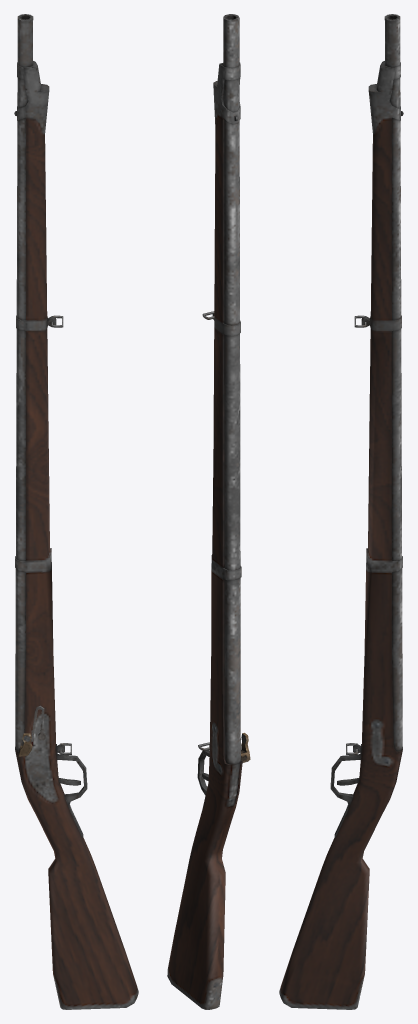
The model's file is Musket1770.fbx.
The picture shows the model from 3 angles, left to right: view 1: azimuth 90°, elevation 25°; view 2: azimuth 210°, elevation 25°; view 3: azimuth 270°, elevation 25°; orthographic projection.
Parts seen in each view (by area): view 1: MusketTest; view 2: MusketTest; view 3: MusketTest.
Part boxes in pixels (x1,y1,x2,y2): MusketTest: [14, 14, 138, 1009]; MusketTest: [167, 14, 250, 1009]; MusketTest: [279, 14, 403, 1009].
Bounding box in the file's own units: 0.0222 × 0.8121 × 0.0924.
